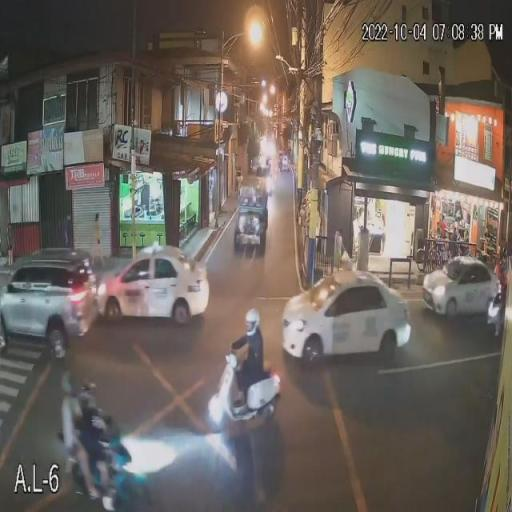helmet: (73, 380, 100, 410), (242, 304, 260, 337), (59, 370, 77, 398)
motorcycle: (51, 430, 154, 510), (200, 381, 286, 431)
rider: (60, 403, 98, 502), (83, 410, 115, 512), (236, 339, 264, 406)
